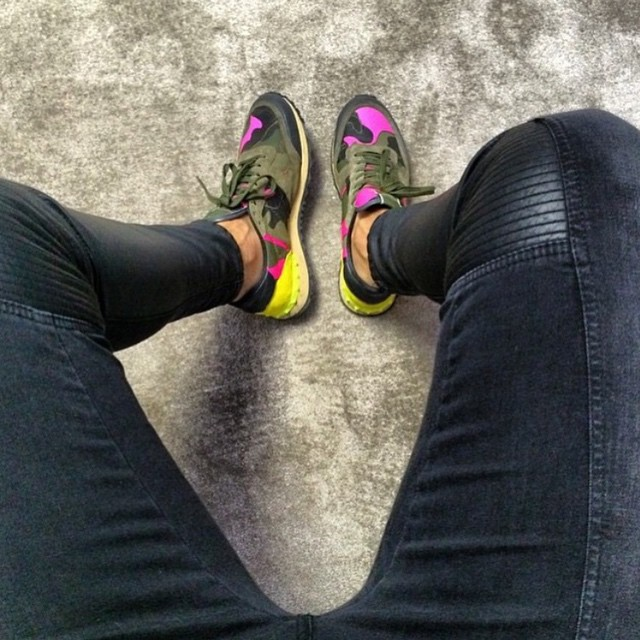sneaker: (192, 82, 326, 328), (321, 84, 428, 326)
